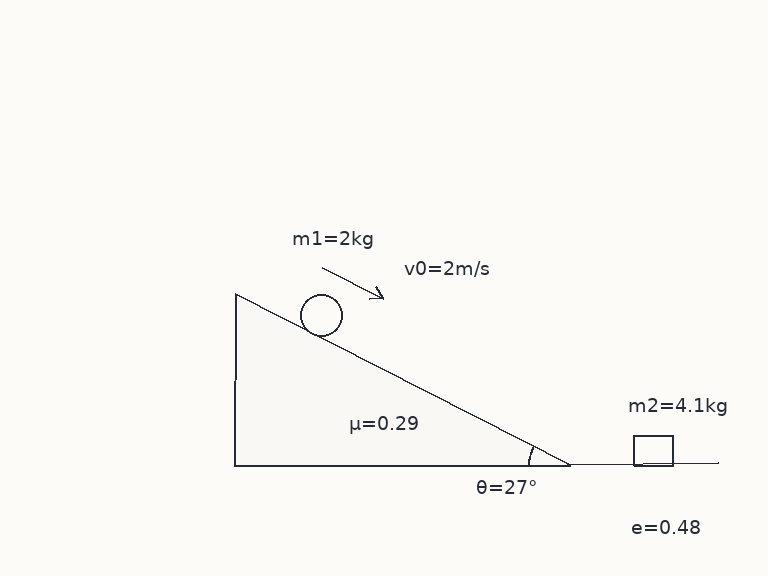ball: (298, 292, 344, 338)
block: (631, 434, 675, 467)
ramp: (233, 293, 571, 467)
